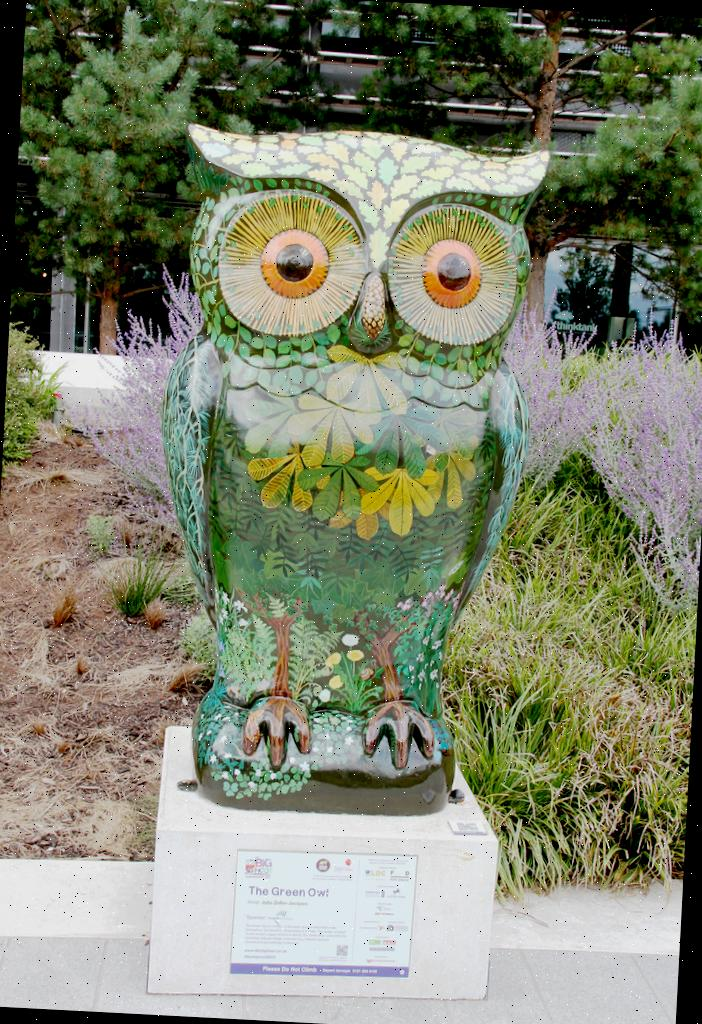Owl: (144, 121, 558, 779)
